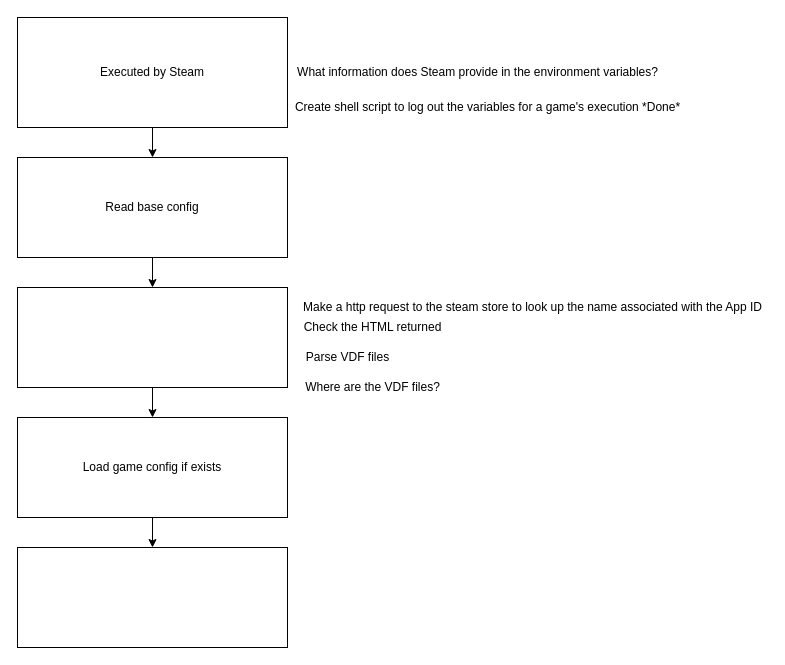
This 785x665 diagram has some shape labels left out. Here are the shapes that lost their labels. From the top down, the centre of each, then its label:
At point (152, 337): "Determine which game has been launched".
At point (152, 597): "Generate command to run".
